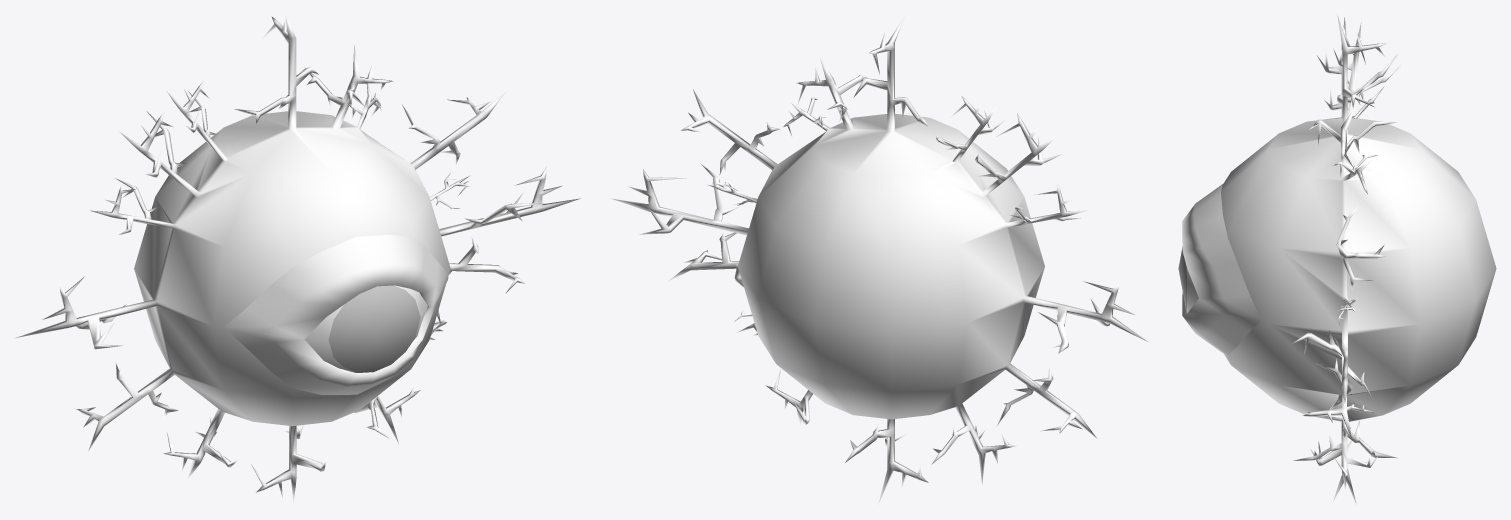
File: hitodama_boss.fbx
3 renders of one model, left to right at view 1: azimuth 30°, elevation 25°; view 2: azimuth 150°, elevation 25°; view 3: azimuth 270°, elevation 25°, orthographic. The views are drawn at different scales.
Visible parts, largest first — view 1: tama_boss; view 2: tama_boss; view 3: tama_boss.
Part boxes in pixels (box(x1,y1,x2,y2)): tama_boss: box(16, 15, 580, 504); tama_boss: box(611, 15, 1147, 505); tama_boss: box(1178, 15, 1496, 504).
Size of the model in its own units: 213 by 183 by 109.
